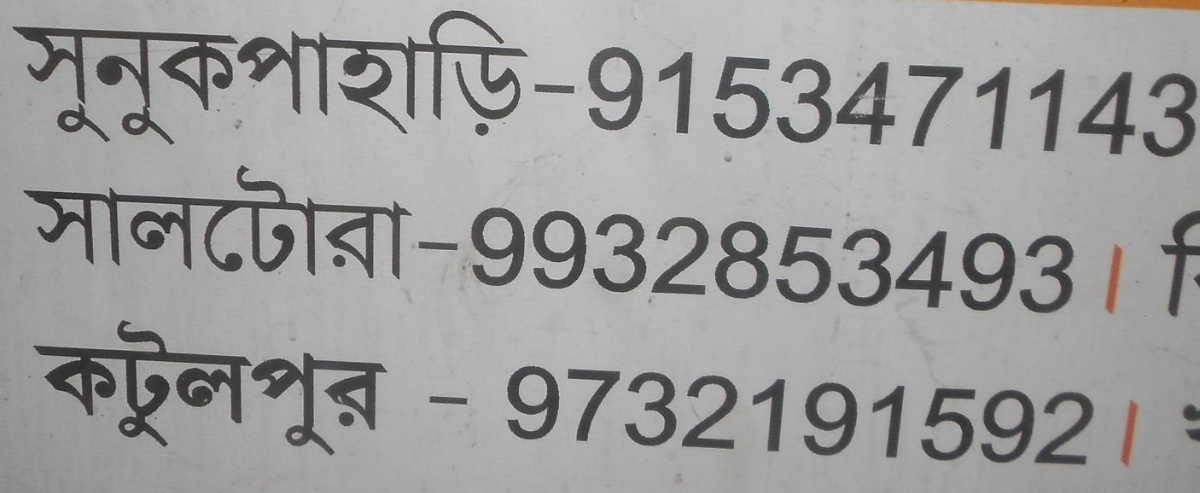text: (17, 4, 32, 184), (33, 4, 48, 184), (49, 4, 64, 184), (65, 4, 80, 184), (81, 4, 96, 184), (97, 4, 112, 184), (113, 4, 128, 184), (129, 4, 144, 184), (145, 4, 160, 184), (161, 4, 176, 184), (177, 4, 192, 184), (193, 4, 208, 184), (209, 4, 224, 184), (225, 4, 240, 184), (241, 4, 256, 184), (257, 4, 272, 184), (273, 4, 288, 184), (289, 4, 304, 184), (305, 4, 320, 184), (321, 4, 336, 184), (337, 4, 352, 184), (353, 4, 368, 184), (369, 4, 384, 184), (385, 4, 400, 184), (401, 4, 416, 184), (417, 4, 432, 184), (433, 4, 448, 184), (449, 4, 464, 184), (465, 4, 480, 184), (481, 4, 496, 184), (497, 4, 512, 184), (513, 4, 528, 184), (529, 4, 544, 184), (545, 4, 560, 184), (561, 4, 576, 184), (577, 4, 592, 184), (593, 4, 608, 184), (609, 4, 624, 184), (625, 4, 640, 184), (641, 4, 656, 184), (657, 4, 672, 184), (673, 4, 688, 184), (689, 4, 704, 184), (705, 4, 720, 184), (721, 4, 736, 184), (737, 4, 752, 184), (753, 4, 768, 184), (769, 4, 784, 184), (785, 4, 800, 184), (801, 4, 816, 184), (817, 4, 832, 184), (833, 4, 848, 184), (849, 4, 864, 184), (865, 4, 880, 184), (881, 4, 896, 184), (897, 4, 912, 184), (913, 4, 928, 184), (929, 4, 944, 184), (945, 4, 960, 184), (961, 4, 976, 184), (977, 4, 992, 184), (993, 4, 1008, 184), (1009, 4, 1024, 184), (1025, 4, 1040, 184), (1041, 4, 1056, 184), (1057, 4, 1072, 184), (1073, 4, 1088, 184), (1089, 4, 1104, 184), (1105, 4, 1120, 184), (1121, 4, 1136, 184), (1137, 4, 1152, 184), (1153, 4, 1168, 184), (1169, 4, 1184, 184), (17, 152, 32, 321), (33, 152, 48, 321), (49, 152, 64, 321), (65, 152, 80, 321), (81, 152, 96, 321), (97, 152, 112, 321), (113, 152, 128, 321), (129, 152, 144, 321), (145, 152, 160, 321), (161, 152, 176, 321), (177, 152, 192, 321), (193, 152, 208, 321), (209, 152, 224, 321), (225, 152, 240, 321), (241, 152, 256, 321), (257, 152, 272, 321), (273, 152, 288, 321), (289, 152, 304, 321), (305, 152, 320, 321), (321, 152, 336, 321), (337, 152, 352, 321), (353, 152, 368, 321), (369, 152, 384, 321), (385, 152, 400, 321), (401, 152, 416, 321), (417, 152, 432, 321), (433, 152, 448, 321), (449, 152, 464, 321), (465, 152, 480, 321), (481, 152, 496, 321), (497, 152, 512, 321), (513, 152, 528, 321), (529, 152, 544, 321), (545, 152, 560, 321), (561, 152, 576, 321), (577, 152, 592, 321), (593, 152, 608, 321), (609, 152, 624, 321), (625, 152, 640, 321), (641, 152, 656, 321), (657, 152, 672, 321), (673, 152, 688, 321), (689, 152, 704, 321), (705, 152, 720, 321), (721, 152, 736, 321), (737, 152, 752, 321), (753, 152, 768, 321), (769, 152, 784, 321), (785, 152, 800, 321), (801, 152, 816, 321), (817, 152, 832, 321), (833, 152, 848, 321), (849, 152, 864, 321), (865, 152, 880, 321), (881, 152, 896, 321), (897, 152, 912, 321), (913, 152, 928, 321), (929, 152, 944, 321), (945, 152, 960, 321), (961, 152, 976, 321), (977, 152, 992, 321), (993, 152, 1008, 321), (1009, 152, 1024, 321), (1025, 152, 1040, 321), (1041, 152, 1056, 321), (1057, 152, 1072, 321), (1185, 4, 1198, 184), (33, 313, 48, 463), (49, 313, 64, 463), (65, 313, 80, 463), (81, 313, 96, 463), (97, 313, 112, 463), (113, 313, 128, 463), (129, 313, 144, 463), (145, 313, 160, 463), (161, 313, 176, 463), (177, 313, 192, 463), (193, 313, 208, 463), (209, 313, 224, 463), (225, 313, 240, 463), (241, 313, 256, 463), (257, 313, 272, 463), (273, 313, 288, 463), (289, 313, 304, 463), (305, 313, 320, 463), (321, 313, 336, 463), (337, 313, 352, 463), (353, 313, 368, 463), (369, 313, 384, 463), (513, 359, 528, 471), (529, 359, 544, 471), (545, 359, 560, 471), (561, 359, 576, 471), (577, 359, 592, 471), (593, 359, 608, 471), (609, 359, 624, 471), (625, 359, 640, 471), (641, 359, 656, 471), (657, 359, 672, 471), (673, 359, 688, 471), (689, 359, 704, 471), (705, 359, 720, 471), (721, 359, 736, 471), (737, 359, 752, 471), (753, 359, 768, 471), (769, 359, 784, 471), (785, 359, 800, 471), (801, 359, 816, 471), (817, 359, 832, 471), (833, 359, 848, 471), (849, 359, 864, 471), (865, 359, 880, 471), (881, 359, 896, 471), (897, 359, 912, 471), (913, 359, 928, 471), (929, 359, 944, 471), (945, 359, 960, 471), (961, 359, 976, 471), (977, 359, 992, 471), (993, 359, 1008, 471), (1009, 359, 1024, 471), (1025, 359, 1040, 471), (1041, 359, 1056, 471), (1057, 359, 1072, 471), (1073, 359, 1088, 471), (1169, 213, 1184, 317), (1185, 213, 1200, 317), (1089, 359, 1101, 471), (9, 4, 16, 184), (1073, 152, 1080, 321), (385, 313, 391, 463), (1123, 403, 1136, 466), (1109, 244, 1120, 310), (506, 359, 512, 471), (1185, 407, 1200, 442), (1164, 213, 1168, 317), (30, 313, 32, 463), (433, 395, 448, 403), (449, 395, 464, 403), (465, 395, 470, 403), (430, 395, 432, 403)
